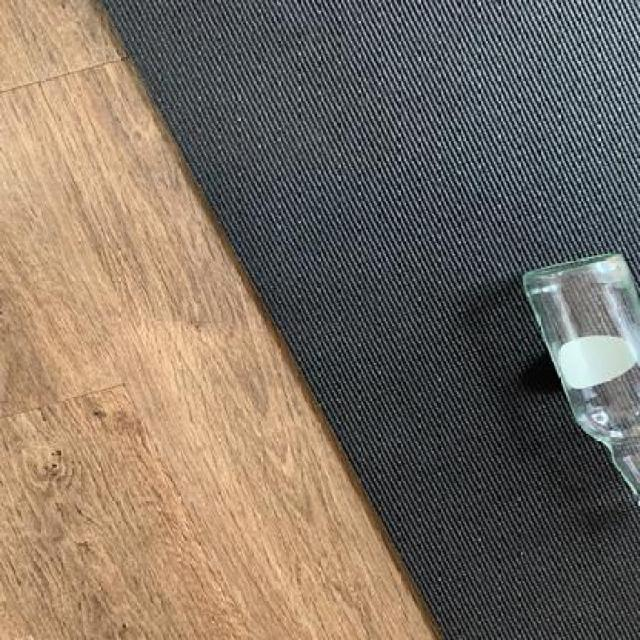trash: (519, 248, 638, 509)
